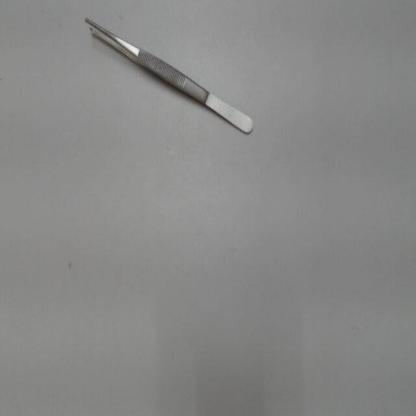Gillies Toothed Dissector: (84, 10, 261, 145)
